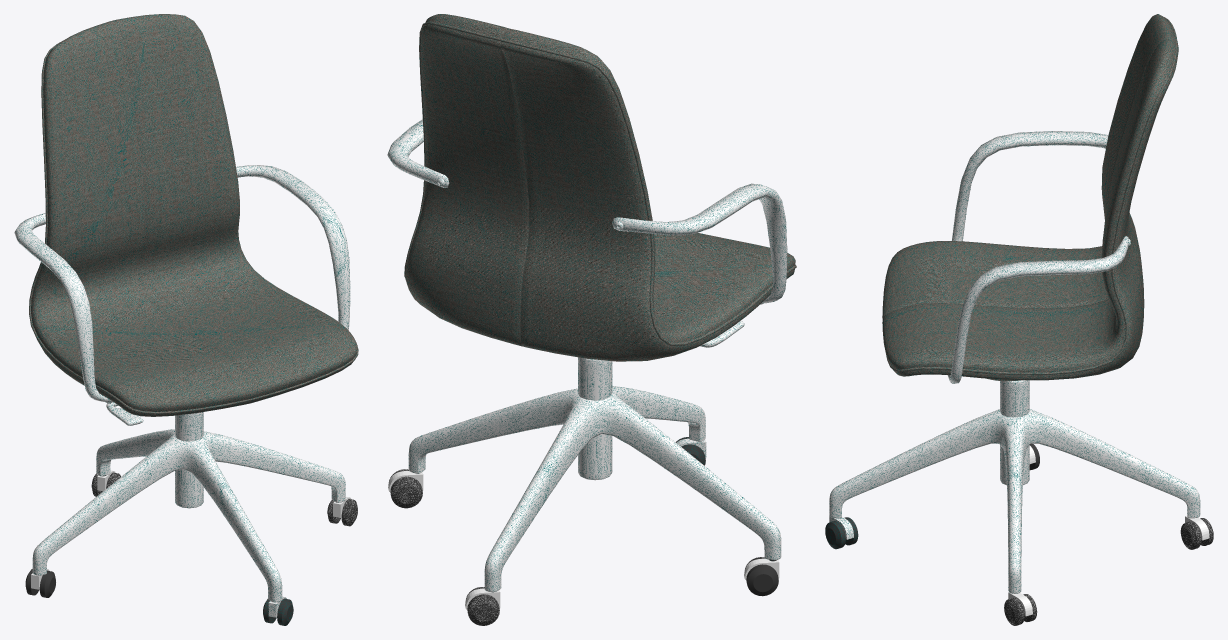
3 renders of one model, left to right at view 1: azimuth 30°, elevation 25°; view 2: azimuth 150°, elevation 25°; view 3: azimuth 270°, elevation 25°, orthographic. The views are drawn at different scales.
Visible parts, largest first — view 1: Langfjall_-_Ikea_4 (×6); view 2: Langfjall_-_Ikea_4 (×6), group_6, group_1, group_16; view 3: Langfjall_-_Ikea_4 (×6).
Boxes of the visible parts, box(x1,y1,x2,y2) form: Langfjall_-_Ikea_4 (×6): box(14, 14, 358, 602); Langfjall_-_Ikea_4 (×6): box(387, 14, 796, 592); group_6: box(390, 476, 422, 508); group_1: box(467, 594, 499, 625); group_16: box(746, 564, 778, 596); Langfjall_-_Ikea_4 (×6): box(829, 14, 1200, 593).
Size of the model in its own units: 28.06 by 27.75 by 39.76.
5 materials, 1 textured.
